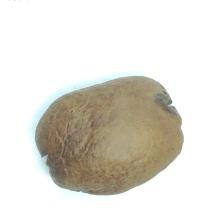NG: (33, 127, 97, 180)
